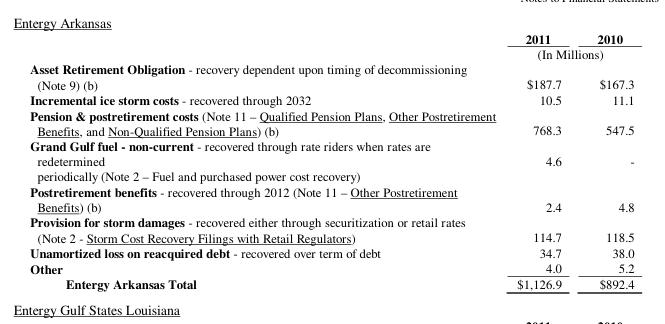table: (29, 29, 633, 292)
table column: (29, 29, 505, 292), (505, 29, 578, 292), (578, 29, 633, 292)
table column header: (29, 29, 633, 60)
table row: (29, 137, 633, 183), (29, 60, 633, 91), (29, 213, 633, 244), (29, 107, 633, 137), (29, 183, 633, 213), (29, 275, 633, 292), (29, 29, 633, 45), (29, 91, 633, 107), (29, 244, 633, 260), (29, 45, 633, 60), (29, 260, 633, 275)
table spanning cell: (505, 45, 633, 60)
